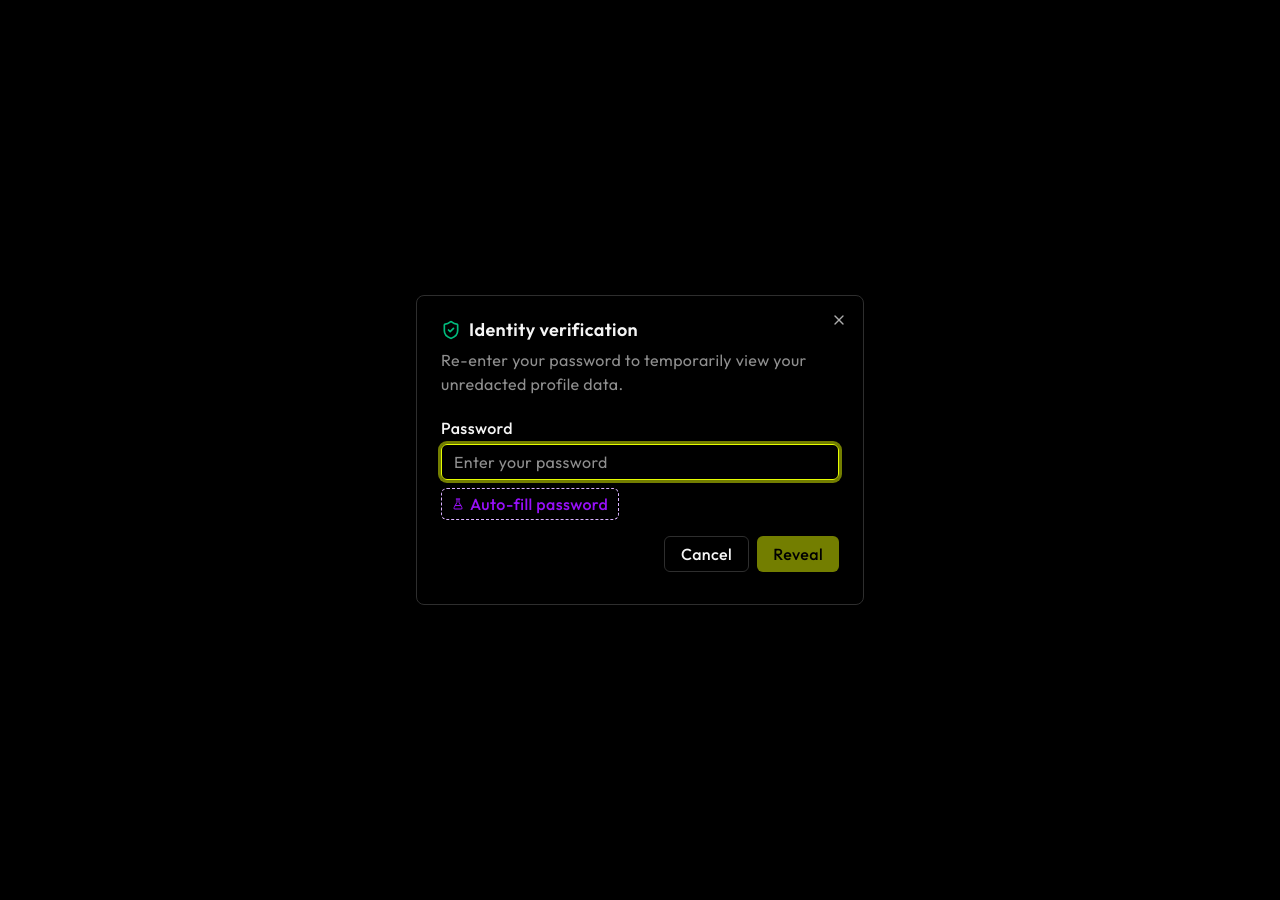
Test: SelfRevealDialog › dev auto-fill › should fill password field when auto-fill button is clicked
This screenshot has width=1280, height=900.
Click the button "Auto-fill password": (530,504) 441,488 -> 619,520
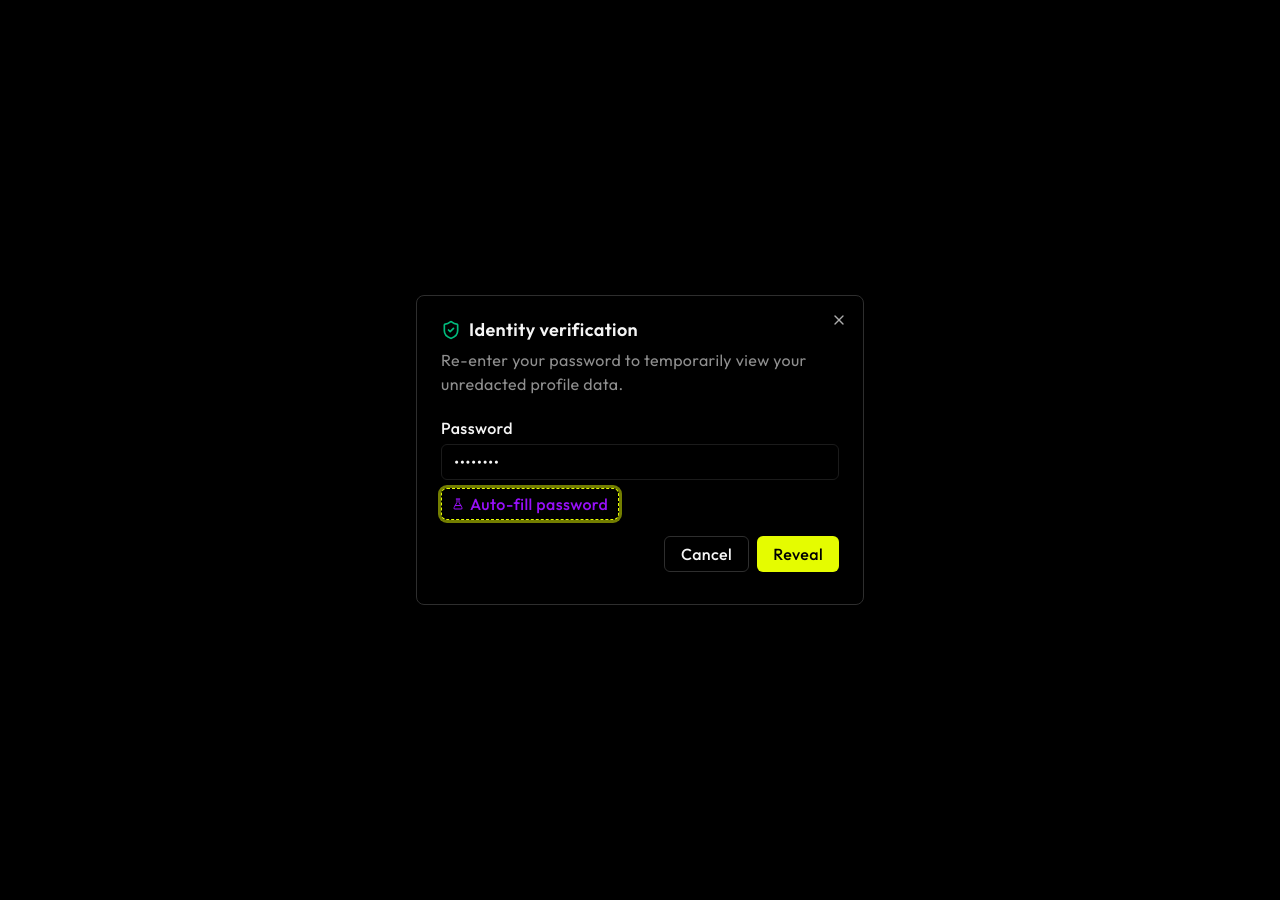
Now the password field labelled "Password" holds "User1234", box 441,444 -> 839,480
